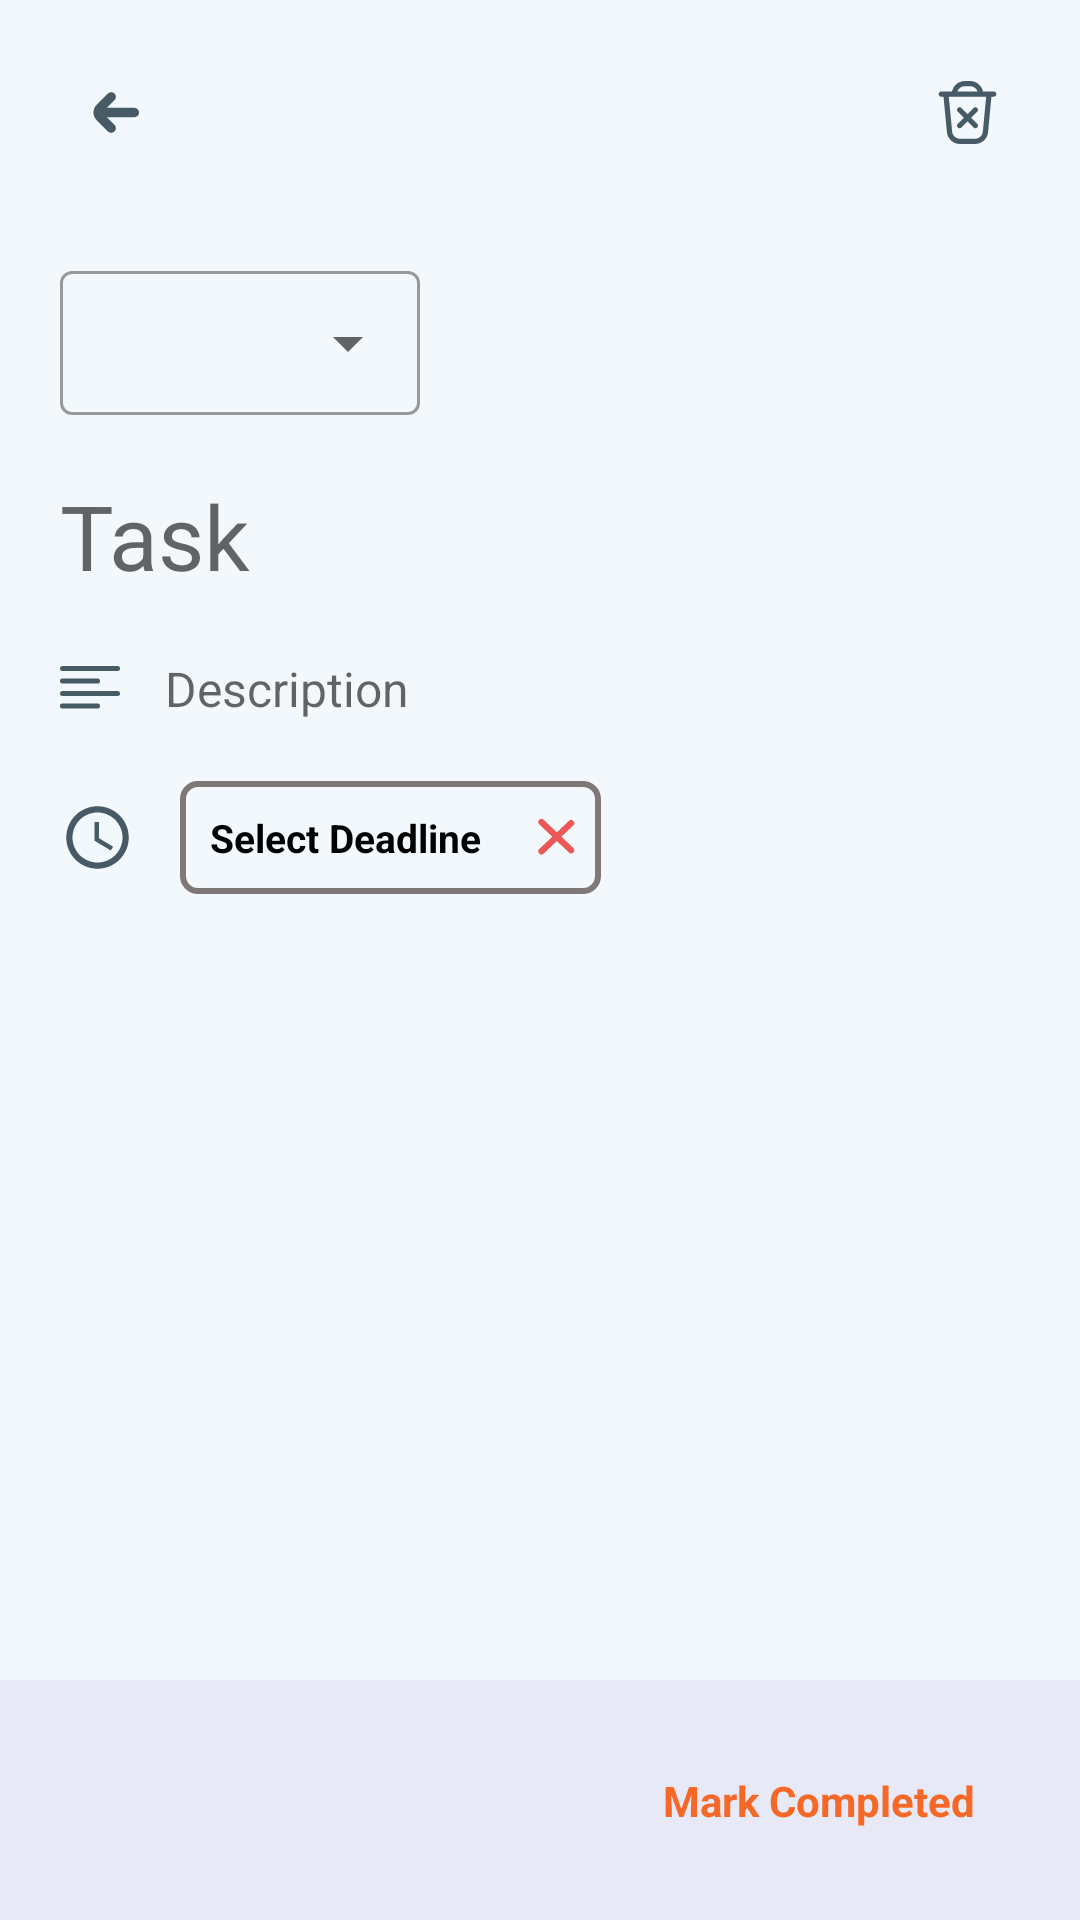

Icons on this 1080×1920 Android screen, each with its box as box=[x1, y1, x2, y2]:
back arrow: box=[93, 92, 139, 133]
cancel: box=[538, 818, 575, 855]
task deadline: box=[66, 806, 129, 869]
trash: box=[938, 81, 997, 144]
